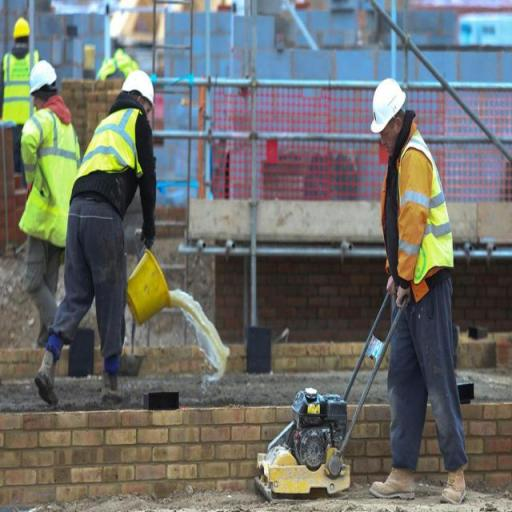helmet: (368, 72, 408, 135), (121, 67, 155, 106), (29, 56, 59, 94), (12, 14, 32, 41)
vest: (396, 135, 455, 285), (19, 104, 80, 240), (75, 106, 144, 180), (1, 52, 32, 121)
